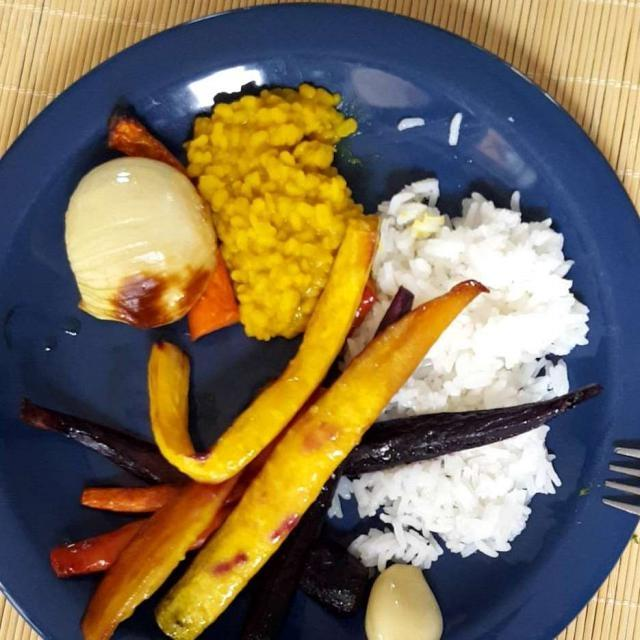carrot: (27, 208, 616, 627)
garlic: (366, 564, 449, 638)
onion: (65, 149, 229, 322)
rice: (341, 183, 576, 560)
